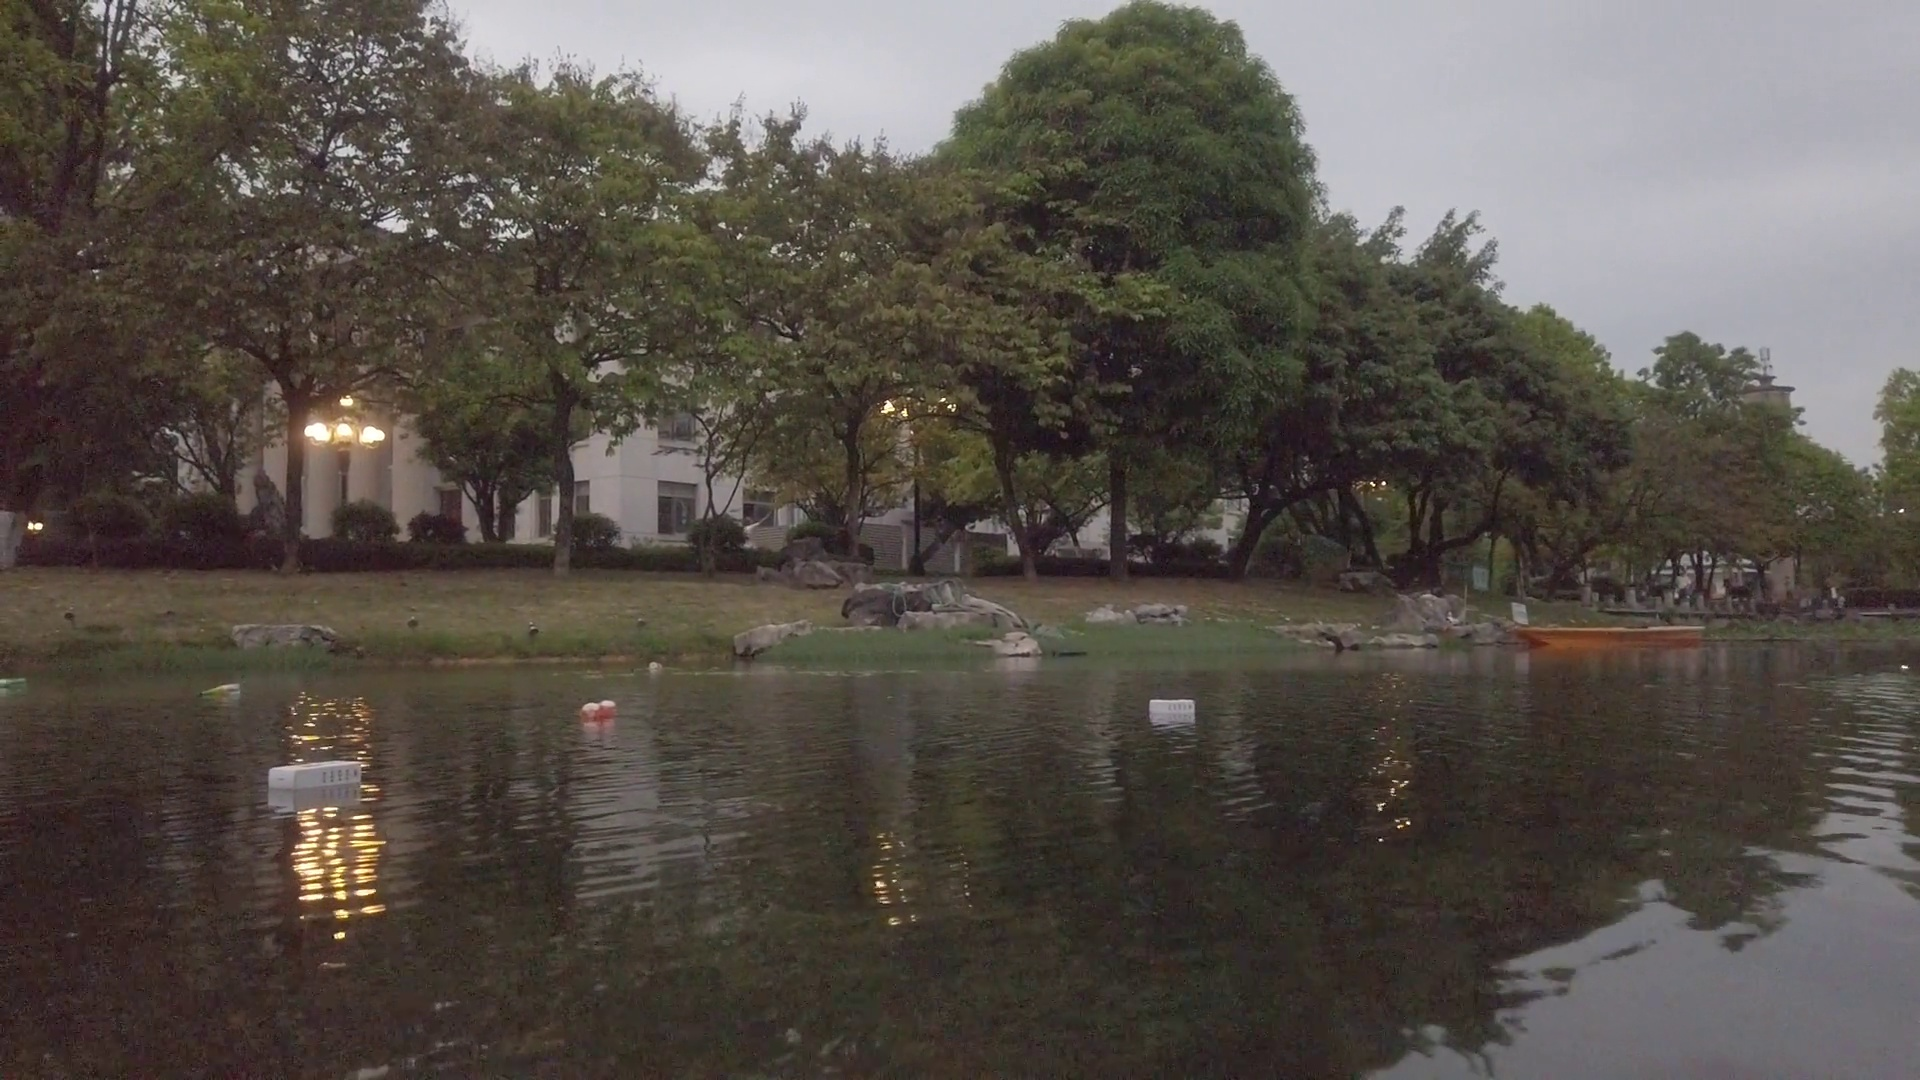bottle: (580, 700, 618, 723), (199, 683, 241, 698), (3, 676, 29, 692), (647, 661, 663, 669)
carton: (270, 760, 363, 789), (1151, 698, 1196, 719)
